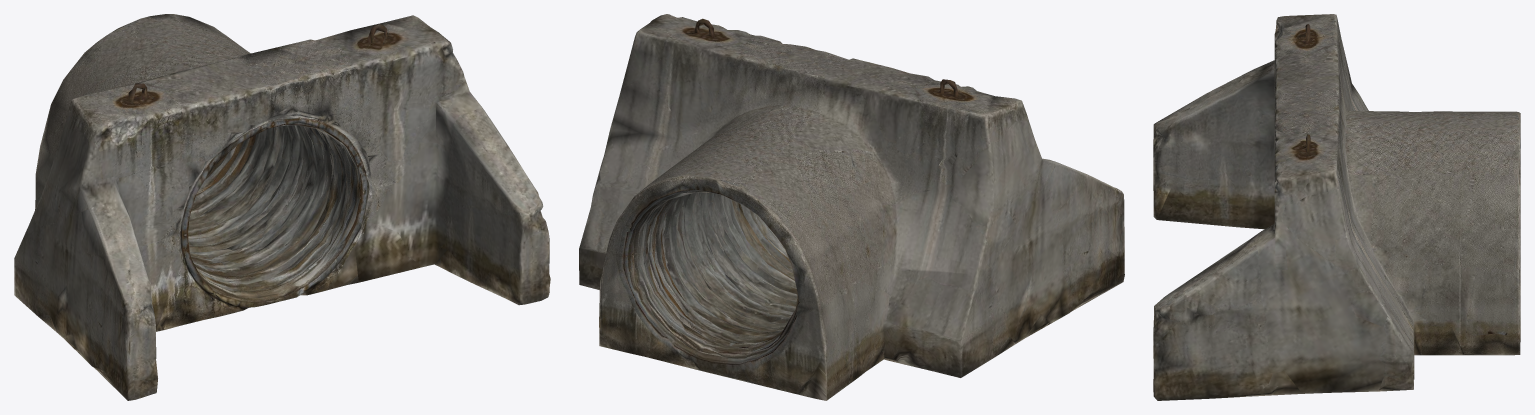
File: culvert.glb
3 views of the same model, side by side, from view 1: azimuth 30°, elevation 25°; view 2: azimuth 150°, elevation 25°; view 3: azimuth 270°, elevation 25° (orthographic). The views are drawn at different scales.
Parts seen in each view (by area): view 1: culvert; view 2: culvert; view 3: culvert.
Boxes of the visible parts, left/top/right/bottom form: culvert: left=14, top=14, right=550, bottom=400; culvert: left=579, top=14, right=1124, bottom=400; culvert: left=1153, top=14, right=1520, bottom=400.
Bounding box in the file's own units: 1.9 × 1.02 × 1.51.
Materials: 1 (1 with a texture image).
